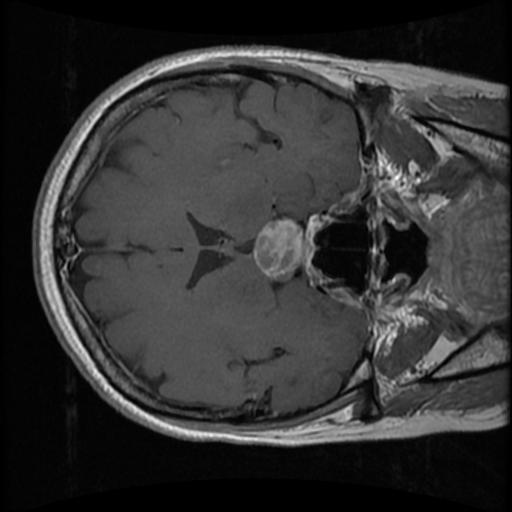pituitary tumour: (252, 219, 304, 283)
